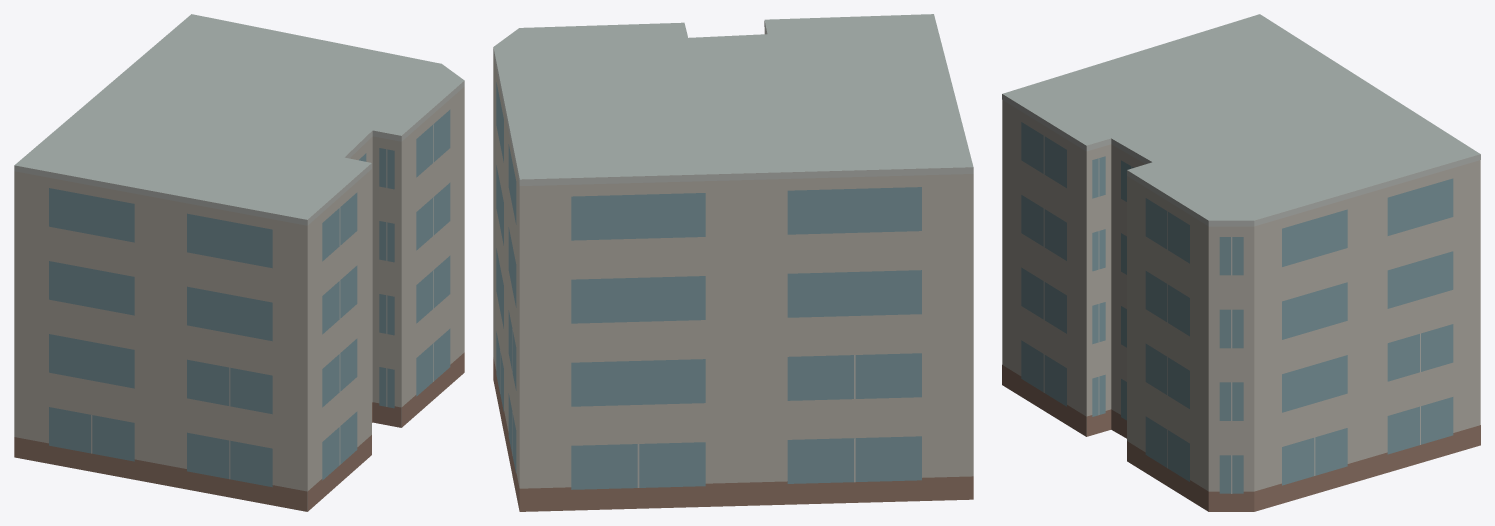
The model's file is survey-upis-32811983.glb.
3 renders of one model, left to right at view 1: azimuth 30°, elevation 25°; view 2: azimuth 150°, elevation 25°; view 3: azimuth 270°, elevation 25°, orthographic. The views are drawn at different scales.
Visible parts, largest first — view 1: survey-upis-32811983.tmp; view 2: survey-upis-32811983.tmp; view 3: survey-upis-32811983.tmp.
Part boxes in pixels (x1,y1,x2,y2): survey-upis-32811983.tmp: [14, 14, 464, 511]; survey-upis-32811983.tmp: [493, 14, 973, 511]; survey-upis-32811983.tmp: [1002, 14, 1480, 511].
Size of the model in its own units: 18.58 by 12.2 by 18.18.
